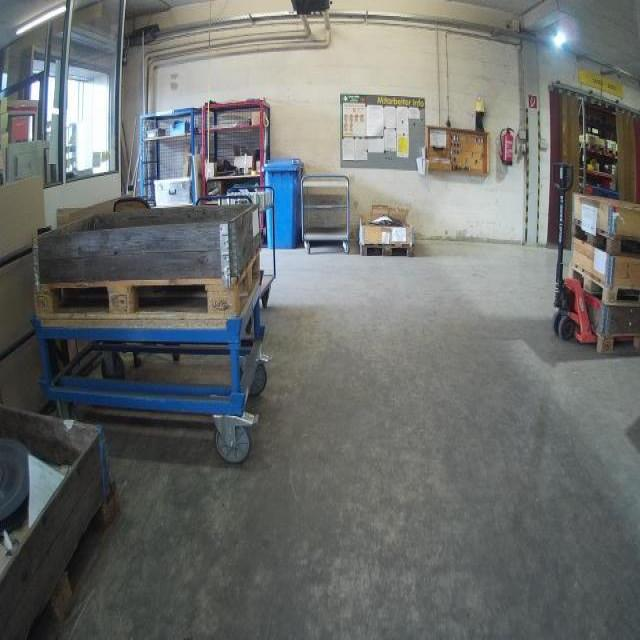pallet: (32, 249, 262, 321), (567, 264, 640, 310), (571, 215, 640, 260), (596, 329, 640, 355), (359, 243, 415, 258)
pallet_truck: (535, 148, 639, 356)
